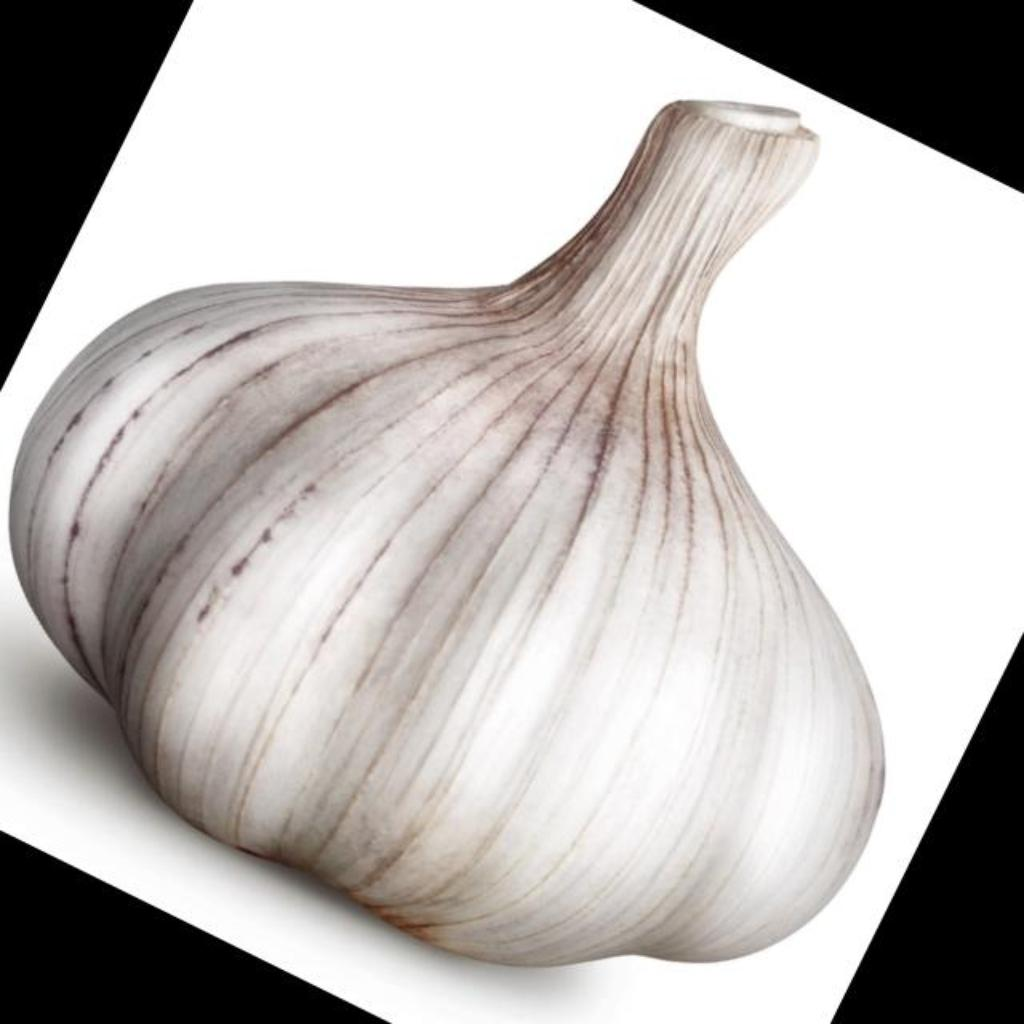garlic: (10, 102, 882, 964)
